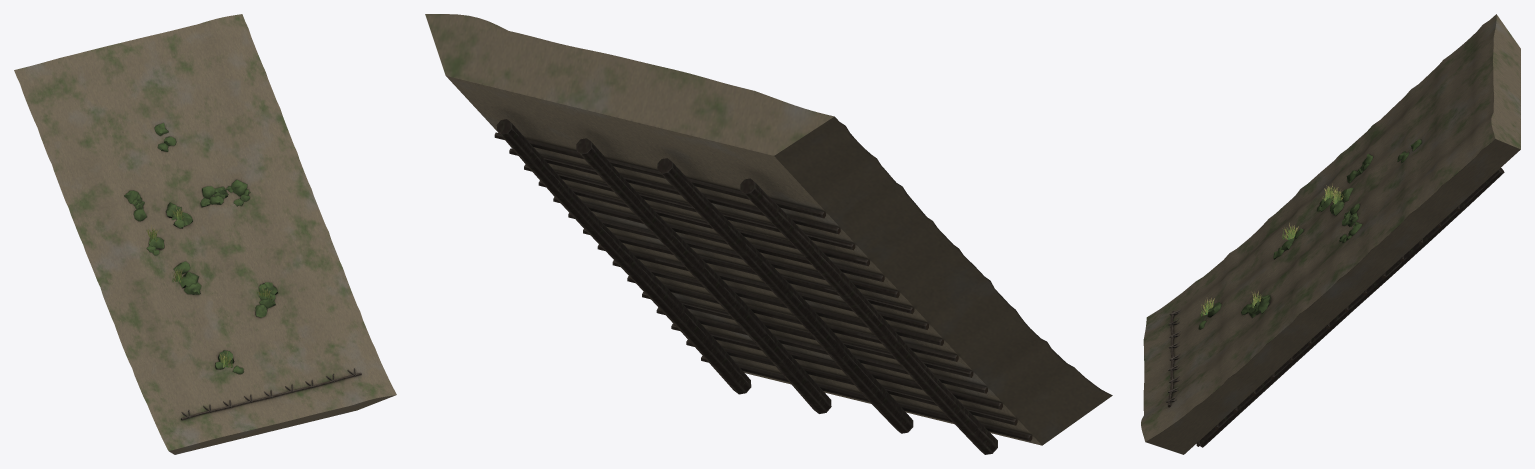
Rendered from HutRoof.fbx.
The picture shows the model from 3 angles, left to right: view 1: azimuth 30°, elevation 25°; view 2: azimuth 150°, elevation 25°; view 3: azimuth 270°, elevation 25°; orthographic projection. The views are drawn at different scales.
Parts seen in each view (by area): view 1: HutRoof_Main, HutRoof_Leaves; view 2: HutRoof_Main; view 3: HutRoof_Main, HutRoof_Leaves.
Part boxes in pixels (x1,y1,x2,y2): HutRoof_Main: (14, 14, 396, 454); HutRoof_Leaves: (146, 207, 272, 367); HutRoof_Main: (425, 14, 1112, 454); HutRoof_Main: (1141, 14, 1520, 454); HutRoof_Leaves: (1200, 184, 1344, 316).
Bounding box in the file's own units: 1000 × 1249 × 1275.
